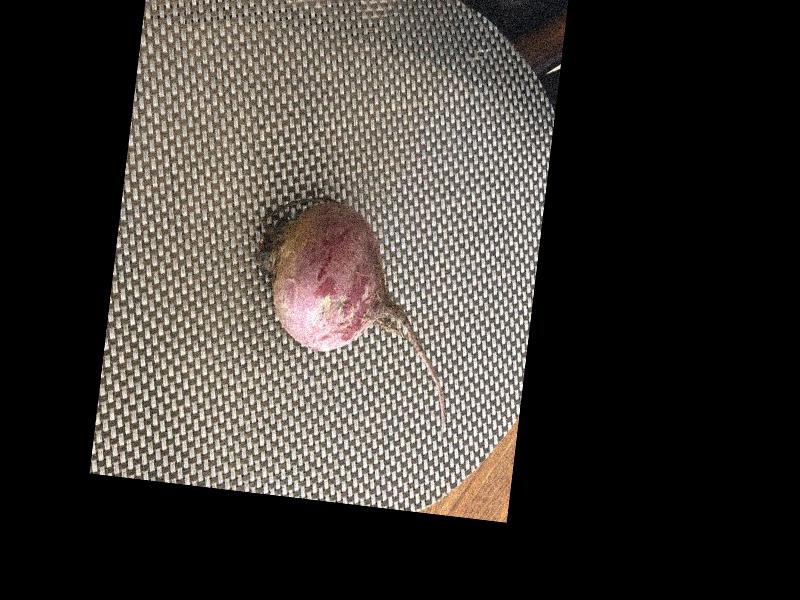Beet: (237, 192, 471, 432)
